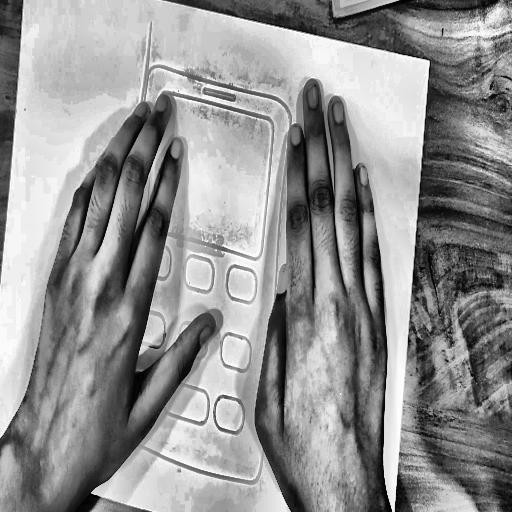mobile: (96, 12, 313, 497)
top_right: (424, 53, 434, 70)
